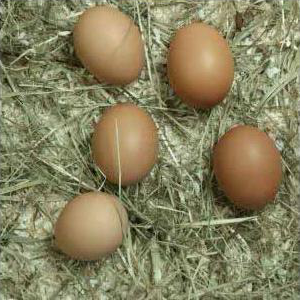egg: (213, 126, 282, 209), (168, 23, 233, 109), (74, 5, 143, 85), (92, 103, 158, 185), (54, 192, 129, 261)
